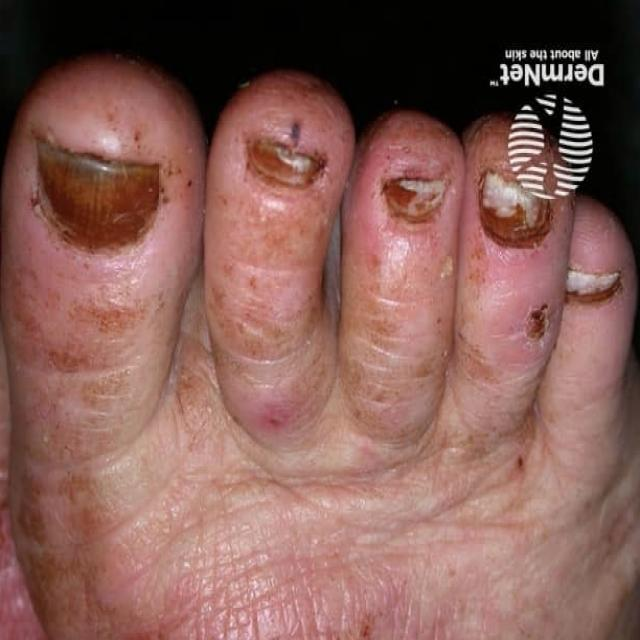Eczema: (5, 107, 156, 415), (213, 119, 321, 427), (352, 146, 448, 425), (473, 156, 550, 372), (560, 252, 631, 322)
